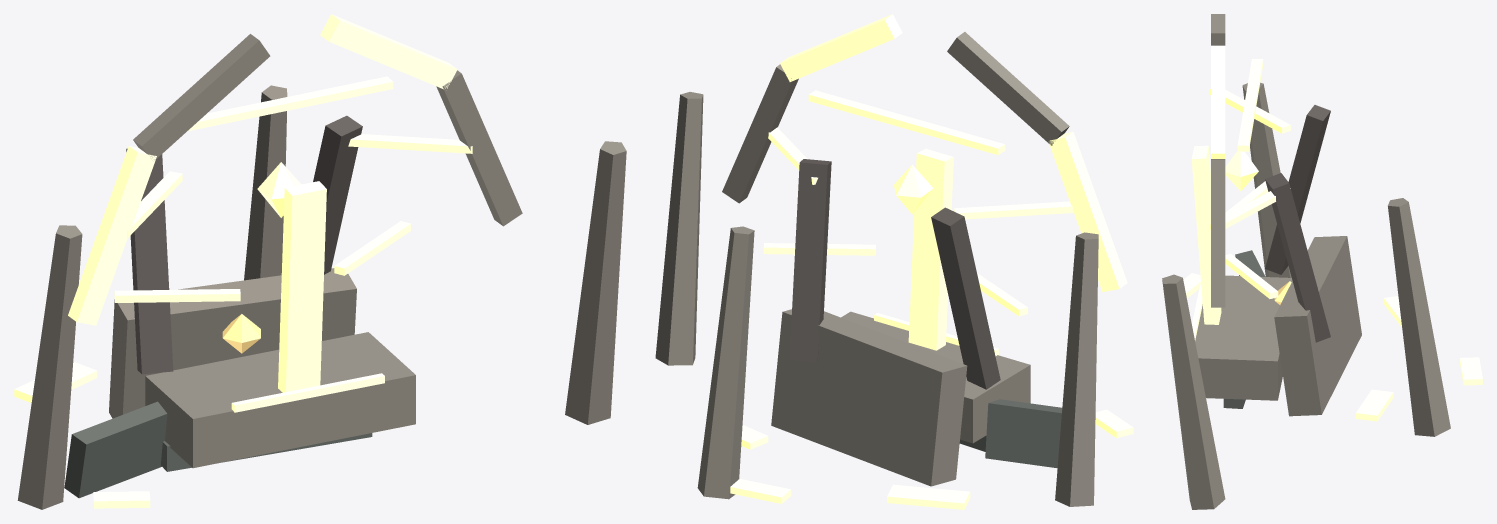
File: memory_wastes_dead_god_shrine.glb
3 views of the same model, side by side, from view 1: azimuth 30°, elevation 25°; view 2: azimuth 150°, elevation 25°; view 3: azimuth 270°, elevation 25° (orthographic). The views are drawn at different scales.
Parts seen in each view (by area): view 1: PREFAB_memory_wastes_dead_god_shrine_22_WASTE_DeadGodShrine_, PREFAB_memory_wastes_dead_god_shrine_03_WASTE_DeadGodShrine_, PREFAB_memory_wastes_dead_god_shrine_02_WASTE_DeadGodShrine_, PREFAB_memory_wastes_dead_god_shrine_00_WASTE_DeadGodShrine_, PREFAB_memory_wastes_dead_god_shrine_25_WASTE_DeadGodShrine_, PREFAB_memory_wastes_dead_god_shrine_24_WASTE_DeadGodShrine_, PREFAB_memory_wastes_dead_god_shrine_05_WASTE_DeadGodShrine_, PREFAB_memory_wastes_dead_god_shrine_14_WASTE_DeadGodShrine_, PREFAB_memory_wastes_dead_god_shrine_01_WASTE_DeadGodShrine_, PREFAB_memory_wastes_dead_god_shrine_15_WASTE_DeadGodShrine_, PREFAB_memory_wastes_dead_god_shrine_17_WASTE_DeadGodShrine_, PREFAB_memory_wastes_dead_god_shrine_16_WASTE_DeadGodShrine_ (+12 smaller); view 2: PREFAB_memory_wastes_dead_god_shrine_03_WASTE_DeadGodShrine_, PREFAB_memory_wastes_dead_god_shrine_01_WASTE_DeadGodShrine_, PREFAB_memory_wastes_dead_god_shrine_02_WASTE_DeadGodShrine_, PREFAB_memory_wastes_dead_god_shrine_00_WASTE_DeadGodShrine_, PREFAB_memory_wastes_dead_god_shrine_06_WASTE_DeadGodShrine_, PREFAB_memory_wastes_dead_god_shrine_25_WASTE_DeadGodShrine_, PREFAB_memory_wastes_dead_god_shrine_05_WASTE_DeadGodShrine_, PREFAB_memory_wastes_dead_god_shrine_24_WASTE_DeadGodShrine_, PREFAB_memory_wastes_dead_god_shrine_22_WASTE_DeadGodShrine_, PREFAB_memory_wastes_dead_god_shrine_14_WASTE_DeadGodShrine_, PREFAB_memory_wastes_dead_god_shrine_15_WASTE_DeadGodShrine_, PREFAB_memory_wastes_dead_god_shrine_17_WASTE_DeadGodShrine_ (+10 smaller); view 3: PREFAB_memory_wastes_dead_god_shrine_03_WASTE_DeadGodShrine_, PREFAB_memory_wastes_dead_god_shrine_22_WASTE_DeadGodShrine_, PREFAB_memory_wastes_dead_god_shrine_01_WASTE_DeadGodShrine_, PREFAB_memory_wastes_dead_god_shrine_02_WASTE_DeadGodShrine_, PREFAB_memory_wastes_dead_god_shrine_06_WASTE_DeadGodShrine_, PREFAB_memory_wastes_dead_god_shrine_05_WASTE_DeadGodShrine_, PREFAB_memory_wastes_dead_god_shrine_00_WASTE_DeadGodShrine_, PREFAB_memory_wastes_dead_god_shrine_25_WASTE_DeadGodShrine_, PREFAB_memory_wastes_dead_god_shrine_17_WASTE_DeadGodShrine_, PREFAB_memory_wastes_dead_god_shrine_16_WASTE_DeadGodShrine_, PREFAB_memory_wastes_dead_god_shrine_08_WASTE_DeadGodShrine_, PREFAB_memory_wastes_dead_god_shrine_13_WASTE_DeadGodShrine_ (+8 smaller).
Part boxes in pixels (<box>): PREFAB_memory_wastes_dead_god_shrine_22_WASTE_DeadGodShrine_: <box>145,332,415,468</box>; PREFAB_memory_wastes_dead_god_shrine_03_WASTE_DeadGodShrine_: <box>109,268,356,418</box>; PREFAB_memory_wastes_dead_god_shrine_02_WASTE_DeadGodShrine_: <box>565,141,626,424</box>; PREFAB_memory_wastes_dead_god_shrine_00_WASTE_DeadGodShrine_: <box>17,225,82,509</box>; PREFAB_memory_wastes_dead_god_shrine_25_WASTE_DeadGodShrine_: <box>278,181,326,392</box>; PREFAB_memory_wastes_dead_god_shrine_24_WASTE_DeadGodShrine_: <box>64,401,167,498</box>; PREFAB_memory_wastes_dead_god_shrine_05_WASTE_DeadGodShrine_: <box>126,148,173,374</box>; PREFAB_memory_wastes_dead_god_shrine_14_WASTE_DeadGodShrine_: <box>68,146,156,325</box>; PREFAB_memory_wastes_dead_god_shrine_01_WASTE_DeadGodShrine_: <box>244,85,287,280</box>; PREFAB_memory_wastes_dead_god_shrine_15_WASTE_DeadGodShrine_: <box>133,34,270,159</box>; PREFAB_memory_wastes_dead_god_shrine_17_WASTE_DeadGodShrine_: <box>436,70,522,226</box>; PREFAB_memory_wastes_dead_god_shrine_16_WASTE_DeadGodShrine_: <box>320,14,457,89</box>; PREFAB_memory_wastes_dead_god_shrine_03_WASTE_DeadGodShrine_: <box>771,309,967,486</box>; PREFAB_memory_wastes_dead_god_shrine_01_WASTE_DeadGodShrine_: <box>697,226,754,499</box>; PREFAB_memory_wastes_dead_god_shrine_02_WASTE_DeadGodShrine_: <box>655,92,703,365</box>; PREFAB_memory_wastes_dead_god_shrine_00_WASTE_DeadGodShrine_: <box>1055,232,1098,506</box>; PREFAB_memory_wastes_dead_god_shrine_06_WASTE_DeadGodShrine_: <box>789,159,831,362</box>; PREFAB_memory_wastes_dead_god_shrine_25_WASTE_DeadGodShrine_: <box>908,148,953,350</box>; PREFAB_memory_wastes_dead_god_shrine_05_WASTE_DeadGodShrine_: <box>931,207,1000,389</box>; PREFAB_memory_wastes_dead_god_shrine_24_WASTE_DeadGodShrine_: <box>985,399,1062,468</box>; PREFAB_memory_wastes_dead_god_shrine_22_WASTE_DeadGodShrine_: <box>841,311,1030,443</box>; PREFAB_memory_wastes_dead_god_shrine_14_WASTE_DeadGodShrine_: <box>1049,132,1127,291</box>; PREFAB_memory_wastes_dead_god_shrine_15_WASTE_DeadGodShrine_: <box>947,32,1069,145</box>; PREFAB_memory_wastes_dead_god_shrine_17_WASTE_DeadGodShrine_: <box>722,64,798,203</box>; PREFAB_memory_wastes_dead_god_shrine_03_WASTE_DeadGodShrine_: <box>1274,236,1361,416</box>; PREFAB_memory_wastes_dead_god_shrine_22_WASTE_DeadGodShrine_: <box>1195,275,1292,400</box>; PREFAB_memory_wastes_dead_god_shrine_01_WASTE_DeadGodShrine_: <box>1388,198,1450,436</box>; PREFAB_memory_wastes_dead_god_shrine_02_WASTE_DeadGodShrine_: <box>1162,274,1225,509</box>; PREFAB_memory_wastes_dead_god_shrine_06_WASTE_DeadGodShrine_: <box>1265,173,1330,342</box>; PREFAB_memory_wastes_dead_god_shrine_05_WASTE_DeadGodShrine_: <box>1265,105,1330,274</box>; PREFAB_memory_wastes_dead_god_shrine_00_WASTE_DeadGodShrine_: <box>1242,82,1291,277</box>; PREFAB_memory_wastes_dead_god_shrine_25_WASTE_DeadGodShrine_: <box>1191,145,1221,324</box>; PREFAB_memory_wastes_dead_god_shrine_17_WASTE_DeadGodShrine_: <box>1211,159,1225,307</box>; PREFAB_memory_wastes_dead_god_shrine_16_WASTE_DeadGodShrine_: <box>1211,45,1225,158</box>; PREFAB_memory_wastes_dead_god_shrine_08_WASTE_DeadGodShrine_: <box>1237,58,1263,151</box>; PREFAB_memory_wastes_dead_god_shrine_13_WASTE_DeadGodShrine_: <box>1225,151,1258,191</box>.
Size of the model in its own units: 6.18 by 4.96 by 3.98.
